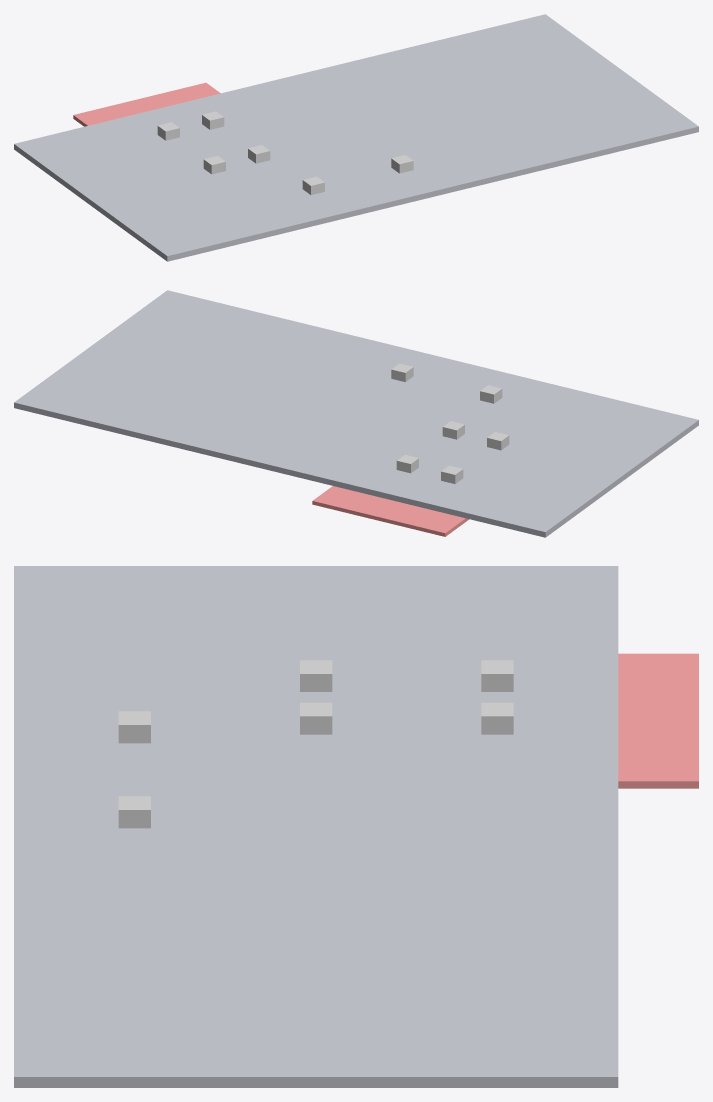
File: board.glb
3 views of the same model, one above another, from view 1: azimuth 30°, elevation 25°; view 2: azimuth 150°, elevation 25°; view 3: azimuth 270°, elevation 25° (orthographic). The views are drawn at different scales.
Parts seen in each view (by area): view 1: Substrate_Base_0, Copper_Net0_Contour1; view 2: Substrate_Base_0, Copper_Net0_Contour1; view 3: Substrate_Base_0, Copper_Net0_Contour1, Copper_Net2_Contour0, Copper_Net5_Contour0, Copper_Net4_Contour0, Copper_Net6_Contour0, Copper_Net1_Contour0, Copper_Net3_Contour0.
Part boxes in pixels (bbox=[...]): Substrate_Base_0: bbox=[14, 14, 698, 261]; Copper_Net0_Contour1: bbox=[73, 82, 220, 126]; Substrate_Base_0: bbox=[14, 290, 698, 537]; Copper_Net0_Contour1: bbox=[312, 486, 469, 536]; Substrate_Base_0: bbox=[14, 566, 618, 1087]; Copper_Net0_Contour1: bbox=[618, 653, 698, 788]; Copper_Net2_Contour0: bbox=[481, 702, 513, 734]; Copper_Net5_Contour0: bbox=[118, 711, 150, 743]; Copper_Net4_Contour0: bbox=[300, 702, 332, 734]; Copper_Net6_Contour0: bbox=[118, 796, 150, 828]; Copper_Net1_Contour0: bbox=[481, 660, 513, 691]; Copper_Net3_Contour0: bbox=[300, 660, 332, 691].
Size of the model in its own units: 3e-05 by 1e-06 by 1.7e-05.
